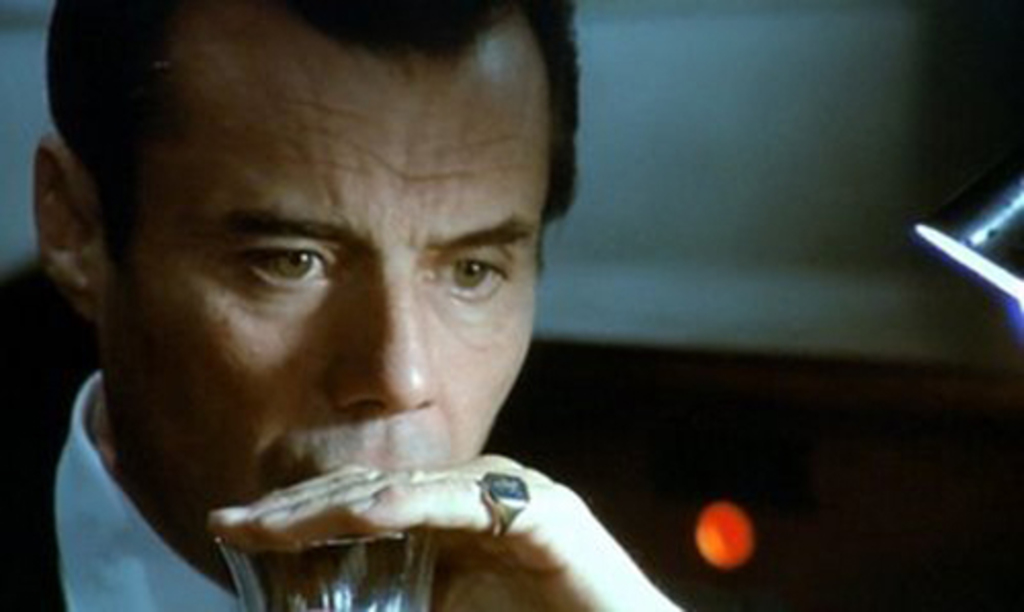Human_hand: (246, 452, 528, 563)
